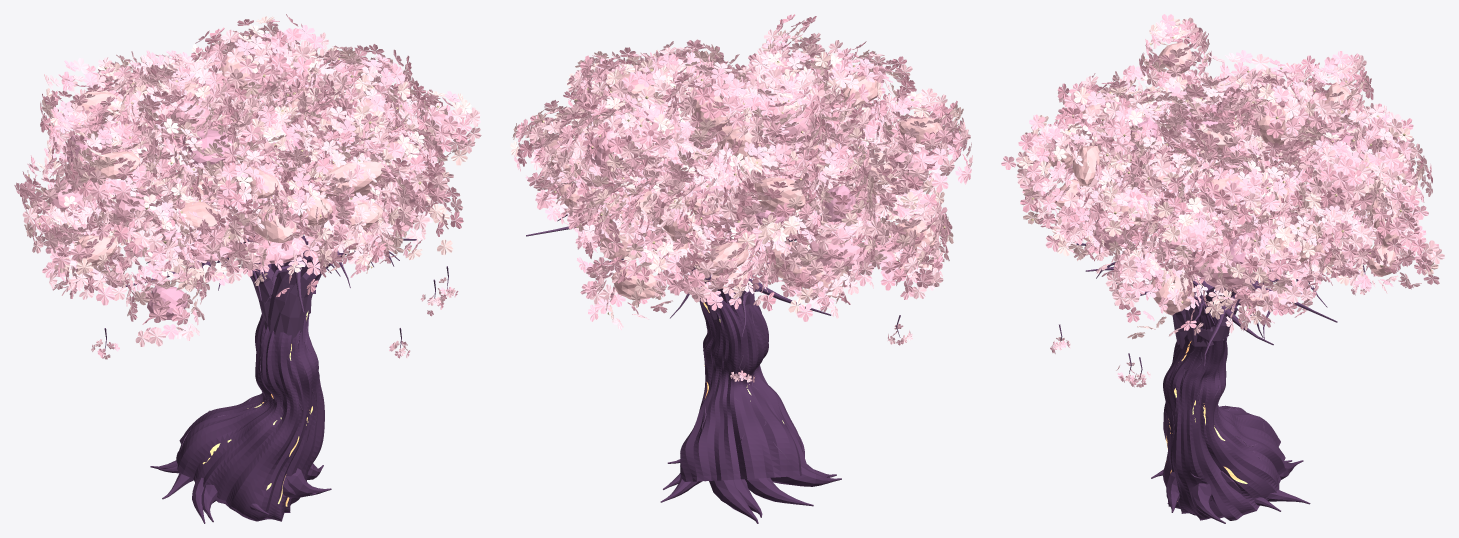
File: r14_quality.glb
The picture shows the model from 3 angles, left to right: view 1: azimuth 30°, elevation 25°; view 2: azimuth 150°, elevation 25°; view 3: azimuth 270°, elevation 25°; orthographic projection. The views are drawn at different scales.
Visible parts, largest first — view 1: Sakura_petal_pink, Sakura_petal_blush, Trunk_bark_plumblack, Sakura_petal_warm_rose, Sakura_petal_cream, Canopy_peach, Branches_plum, Canopy_rose, Canopy_depth_rose; view 2: Sakura_petal_pink, Sakura_petal_blush, Sakura_petal_warm_rose, Trunk_bark_plumblack, Sakura_petal_cream, Canopy_peach, Canopy_rose, Branches_plum, Canopy_depth_rose; view 3: Sakura_petal_pink, Sakura_petal_blush, Sakura_petal_warm_rose, Trunk_bark_plumblack, Sakura_petal_cream, Canopy_peach, Branches_plum, Canopy_rose, Canopy_depth_rose.
Boxes of the visible parts, box(x1,y1,x2,y2) form: Sakura_petal_pink: box(14, 14, 471, 358); Sakura_petal_blush: box(20, 24, 481, 359); Trunk_bark_plumblack: box(150, 253, 343, 523); Sakura_petal_warm_rose: box(26, 19, 468, 339); Sakura_petal_cream: box(24, 16, 471, 316); Canopy_peach: box(61, 55, 417, 283); Branches_plum: box(103, 234, 448, 451); Canopy_rose: box(49, 53, 452, 263); Canopy_depth_rose: box(67, 86, 303, 320); Sakura_petal_pink: box(514, 20, 971, 382); Sakura_petal_blush: box(523, 25, 972, 382); Sakura_petal_warm_rose: box(516, 14, 968, 311); Trunk_bark_plumblack: box(660, 298, 841, 523); Sakura_petal_cream: box(510, 28, 963, 321); Canopy_peach: box(547, 64, 943, 299); Canopy_rose: box(587, 109, 937, 267); Branches_plum: box(526, 214, 900, 462); Canopy_depth_rose: box(581, 73, 907, 236); Sakura_petal_pink: box(1001, 25, 1439, 387); Sakura_petal_blush: box(1016, 17, 1444, 387); Sakura_petal_warm_rose: box(1018, 14, 1432, 330); Trunk_bark_plumblack: box(1151, 308, 1310, 523); Sakura_petal_cream: box(1018, 17, 1438, 339); Canopy_peach: box(1046, 42, 1399, 315); Branches_plum: box(1059, 243, 1365, 478); Canopy_rose: box(1092, 86, 1348, 287); Canopy_depth_rose: box(1122, 103, 1360, 278).
Bounding box in the file's own units: 26.45 × 27.95 × 25.98.
